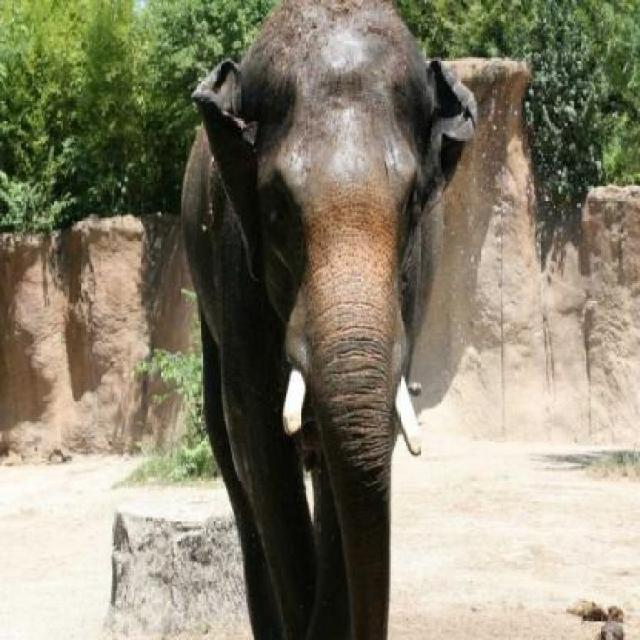Elephant: (172, 2, 512, 640)
